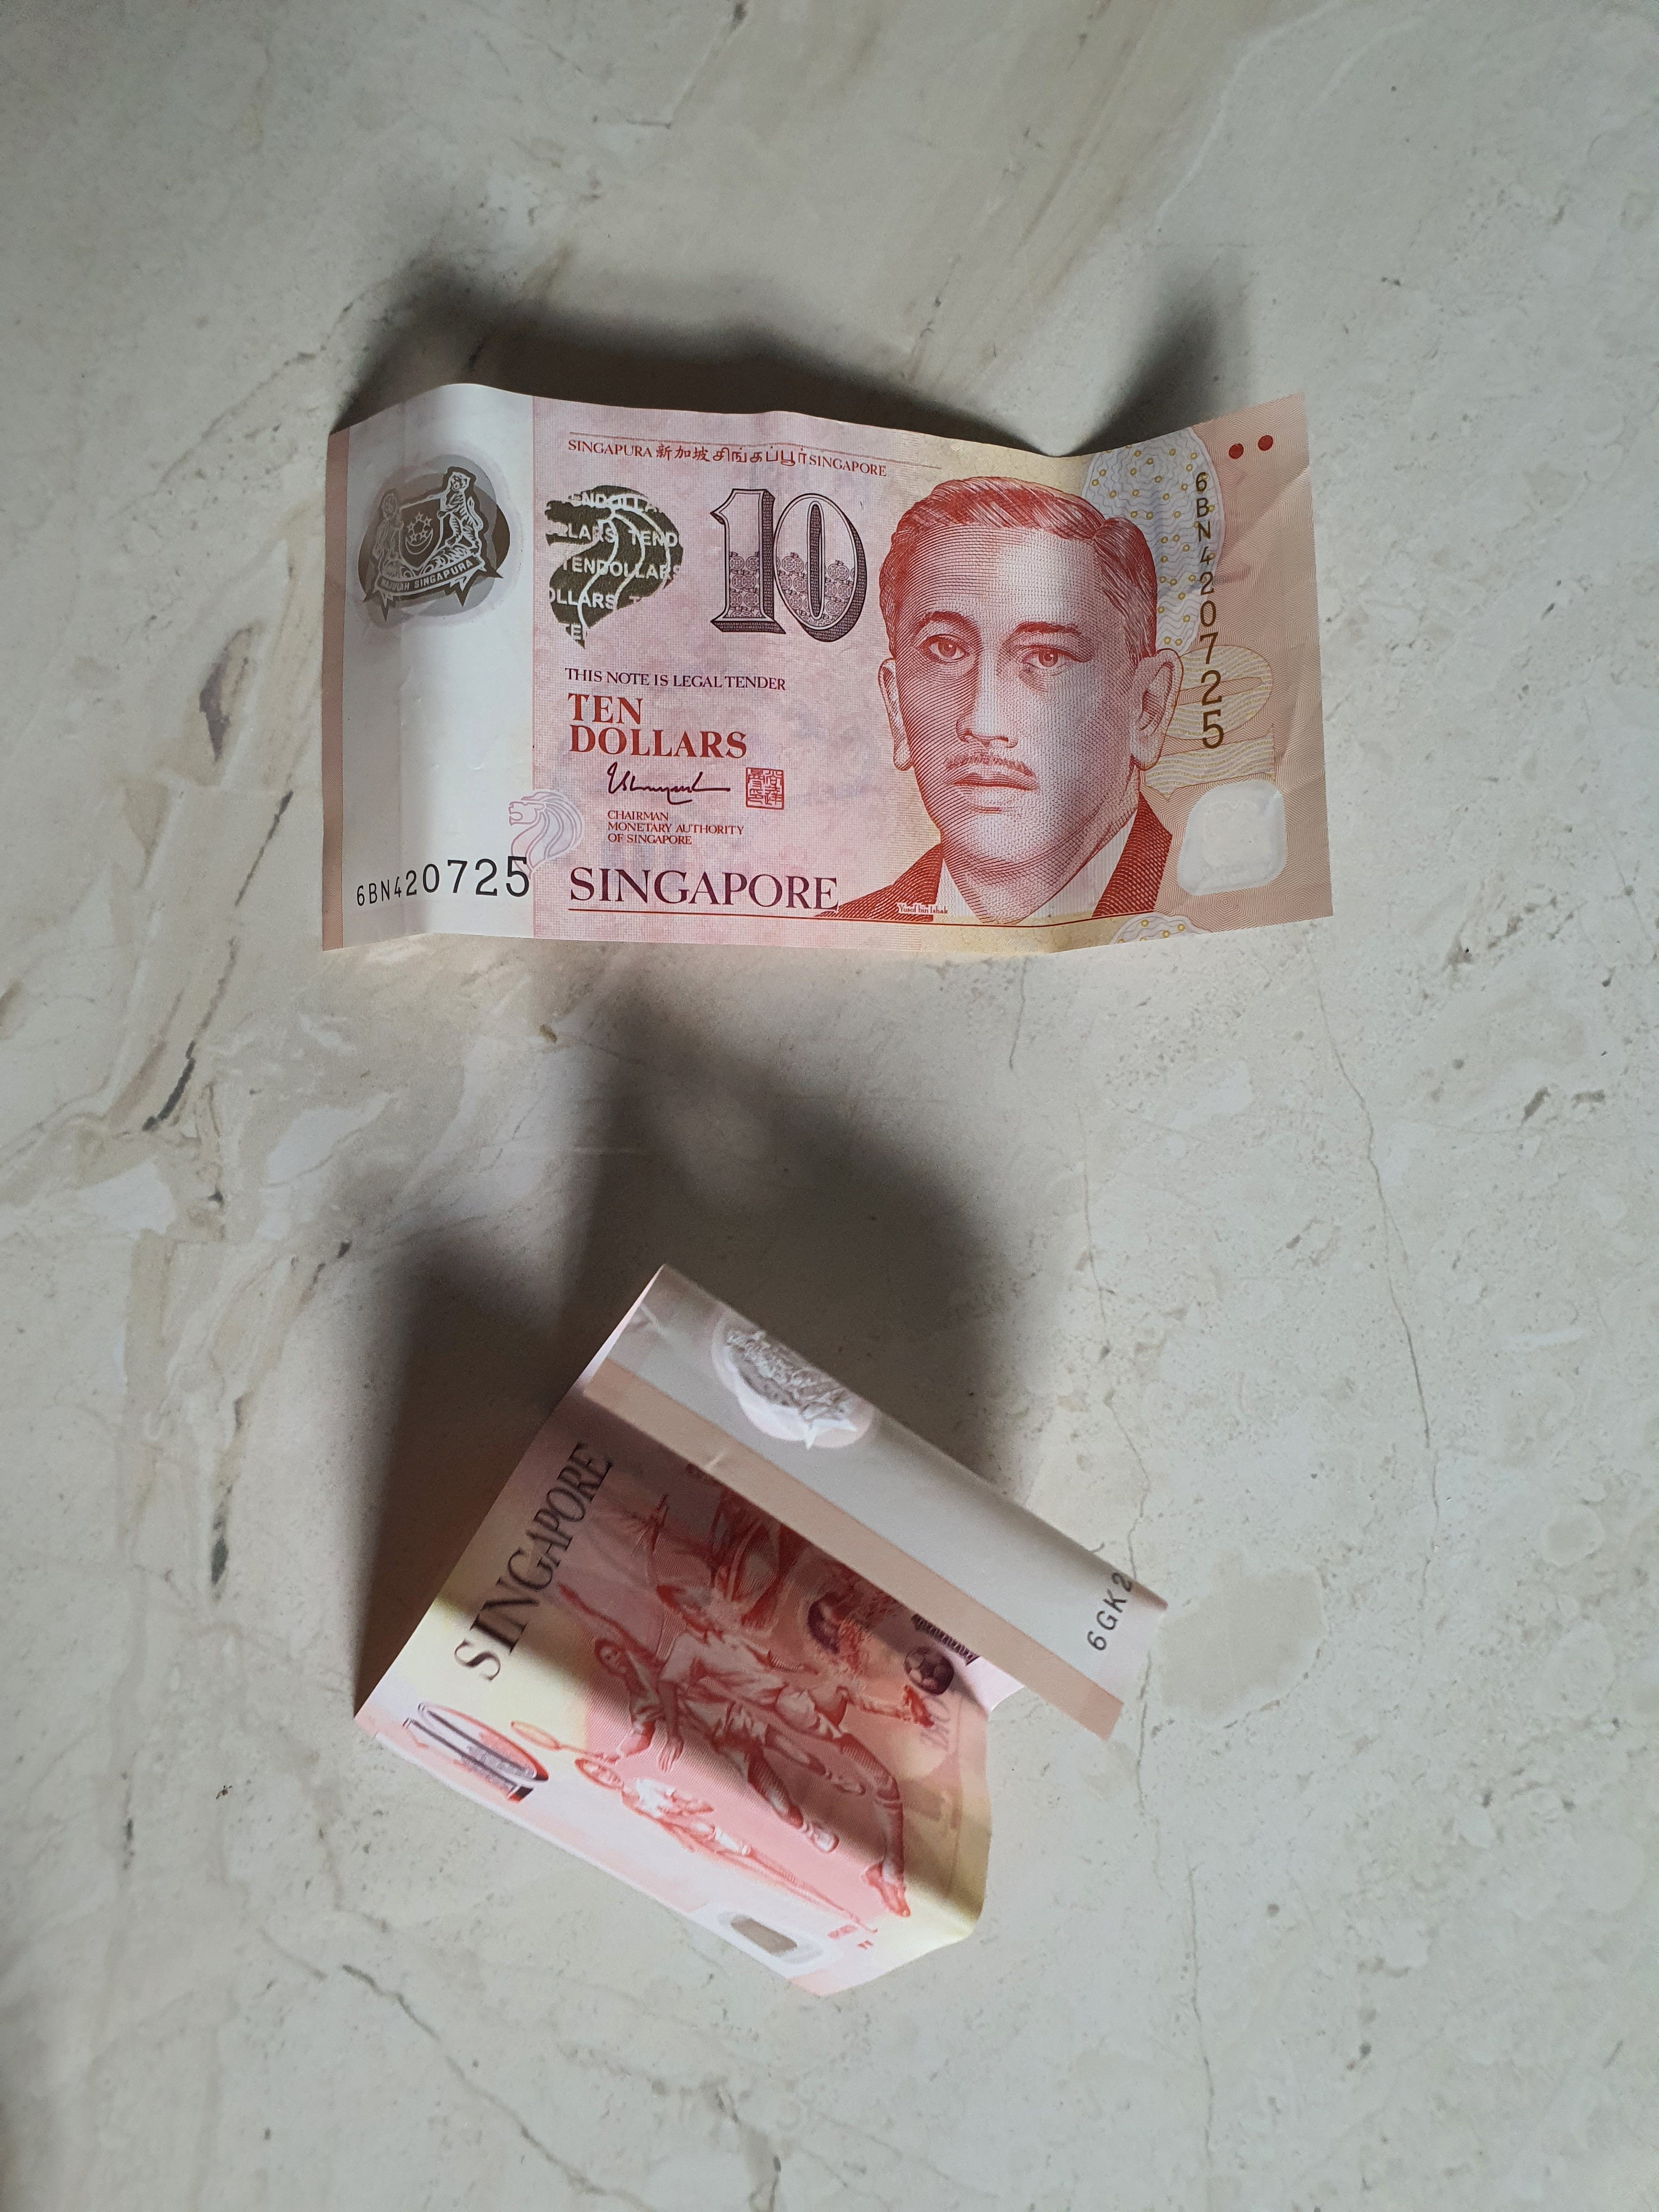$10: (350, 1266, 1171, 1994), (321, 381, 1338, 954)
